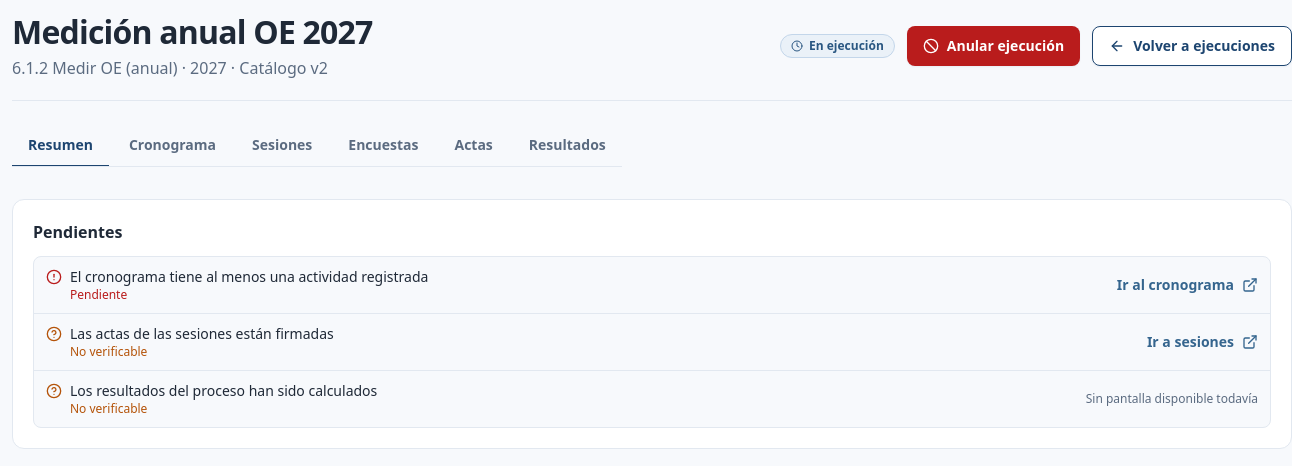
Test: ExecutionBoardPage (HU-031, T-031-09) › shows the status, the schedule progress and every section
The image size is (1292, 466).
Expected: the heading "Medición anual OE 2027" is shown, top-left (12, 12), bottom-right (373, 52)
Expected: the text "En ejecución" is shown, top-left (809, 37), bottom-right (884, 55)
Click the tab "Cronograma": click(172, 146) top-left (113, 125), bottom-right (232, 167)
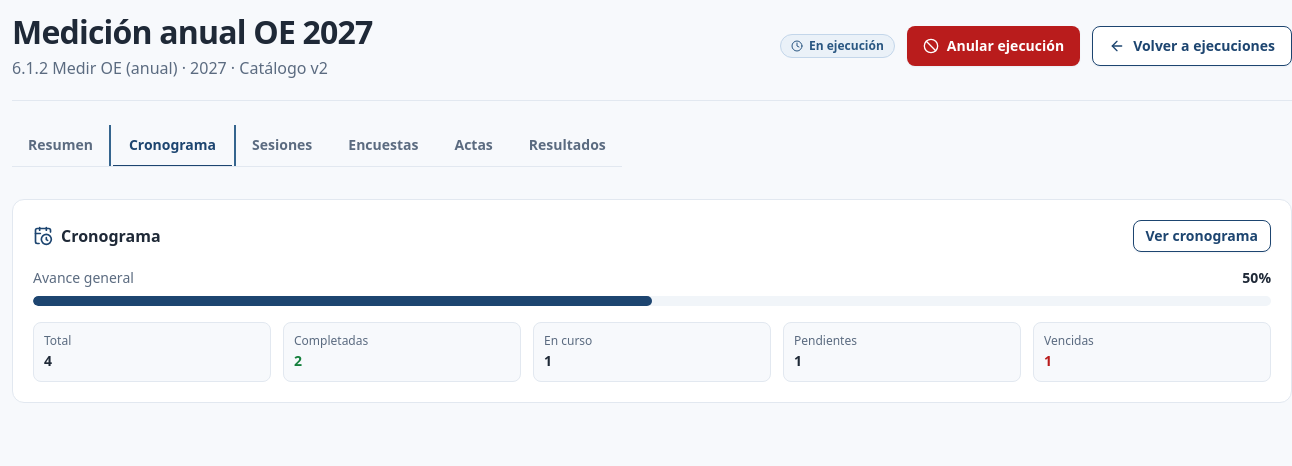
Expected: the heading "Cronograma" is shown, top-left (61, 224), bottom-right (161, 248)
Result: the text "50%" is shown at top-left (1242, 268), bottom-right (1271, 288)
Click the tab "Sesiones": click(282, 146) top-left (236, 125), bottom-right (328, 167)
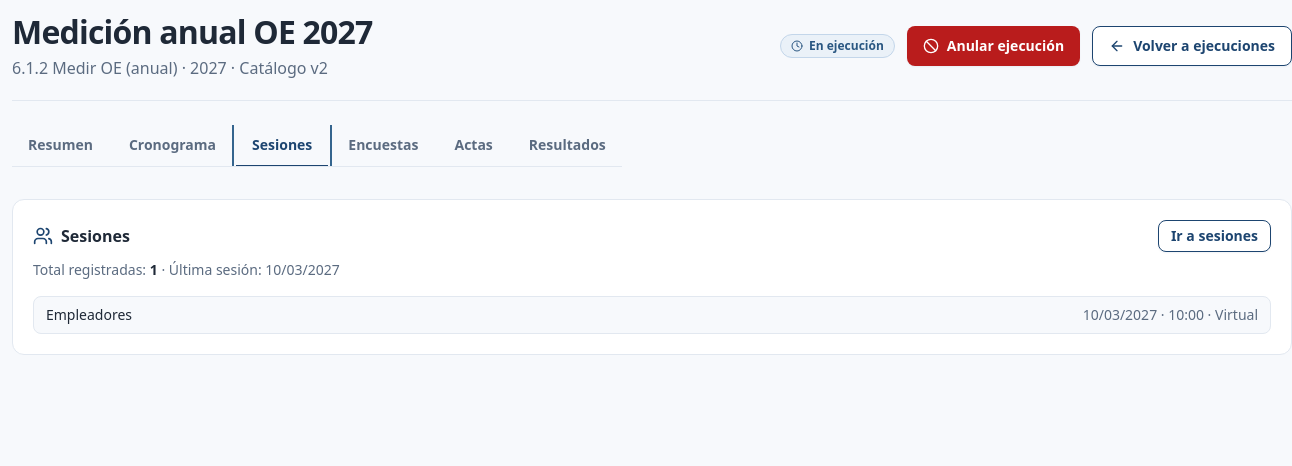
Result: the heading "Sesiones" is shown at top-left (61, 224), bottom-right (130, 248)
Result: the text "Empleadores" is shown at top-left (46, 305), bottom-right (132, 325)
Click the tab "Encuestas": click(383, 146) top-left (332, 125), bottom-right (434, 167)
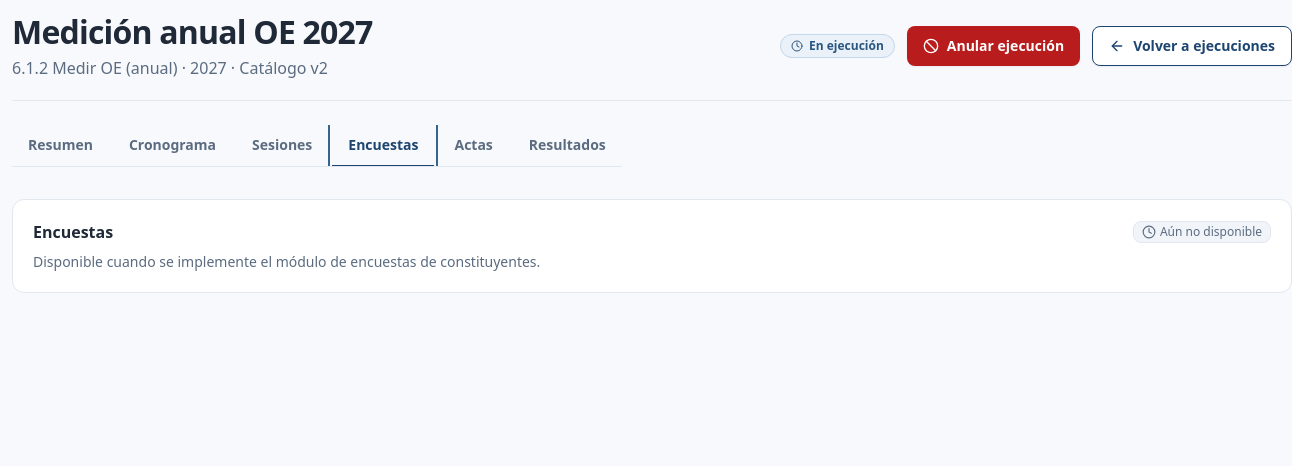
Result: the heading "Encuestas" is shown at top-left (33, 220), bottom-right (113, 244)
Click the tab "Actas": click(474, 146) top-left (438, 125), bottom-right (509, 167)
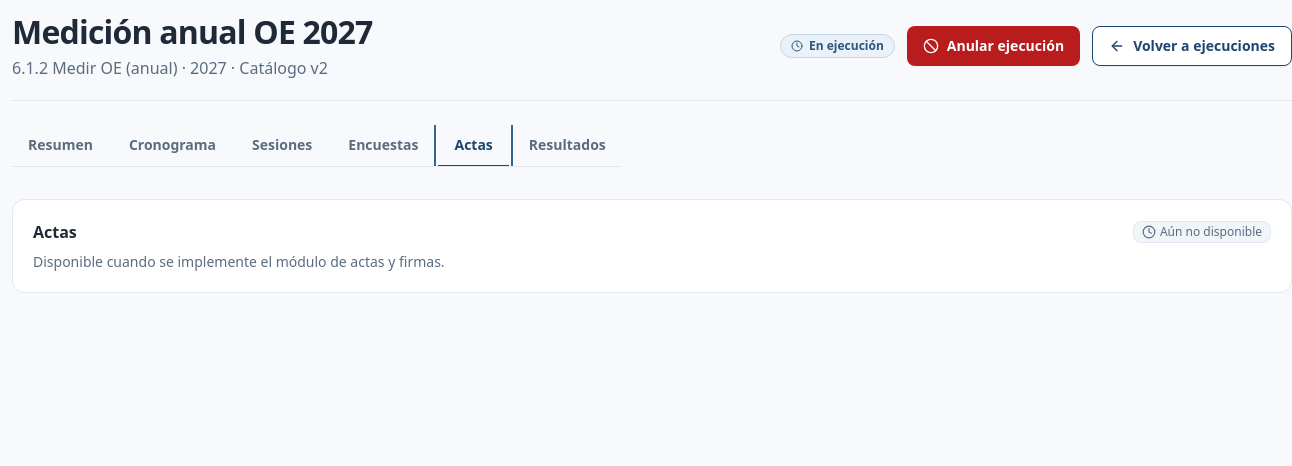
Result: the heading "Actas" is shown at top-left (33, 220), bottom-right (77, 244)
Click the tab "Resultados": click(567, 146) top-left (513, 125), bottom-right (622, 167)
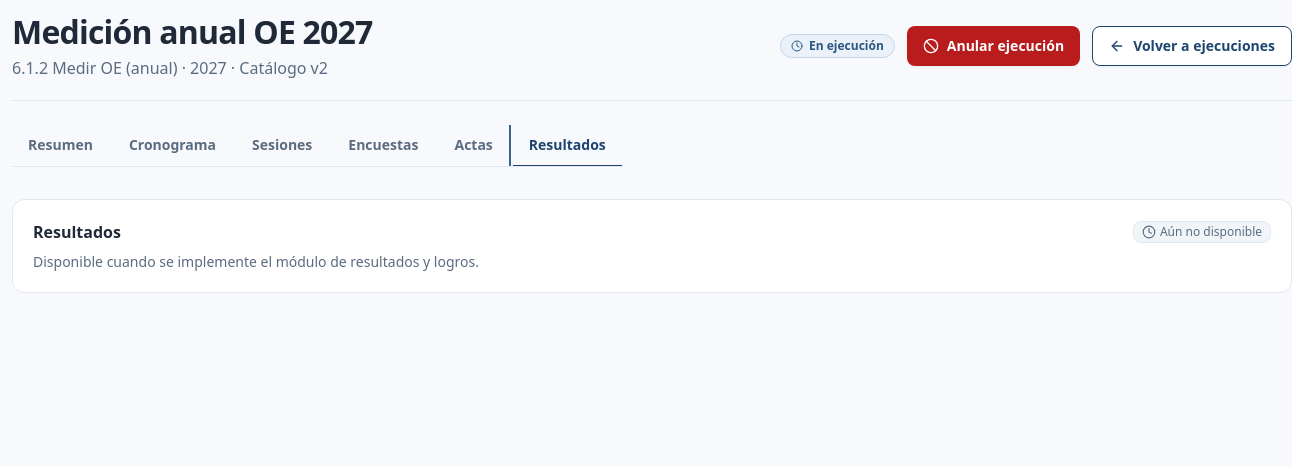
Result: the heading "Resultados" is shown at top-left (33, 220), bottom-right (121, 244)
